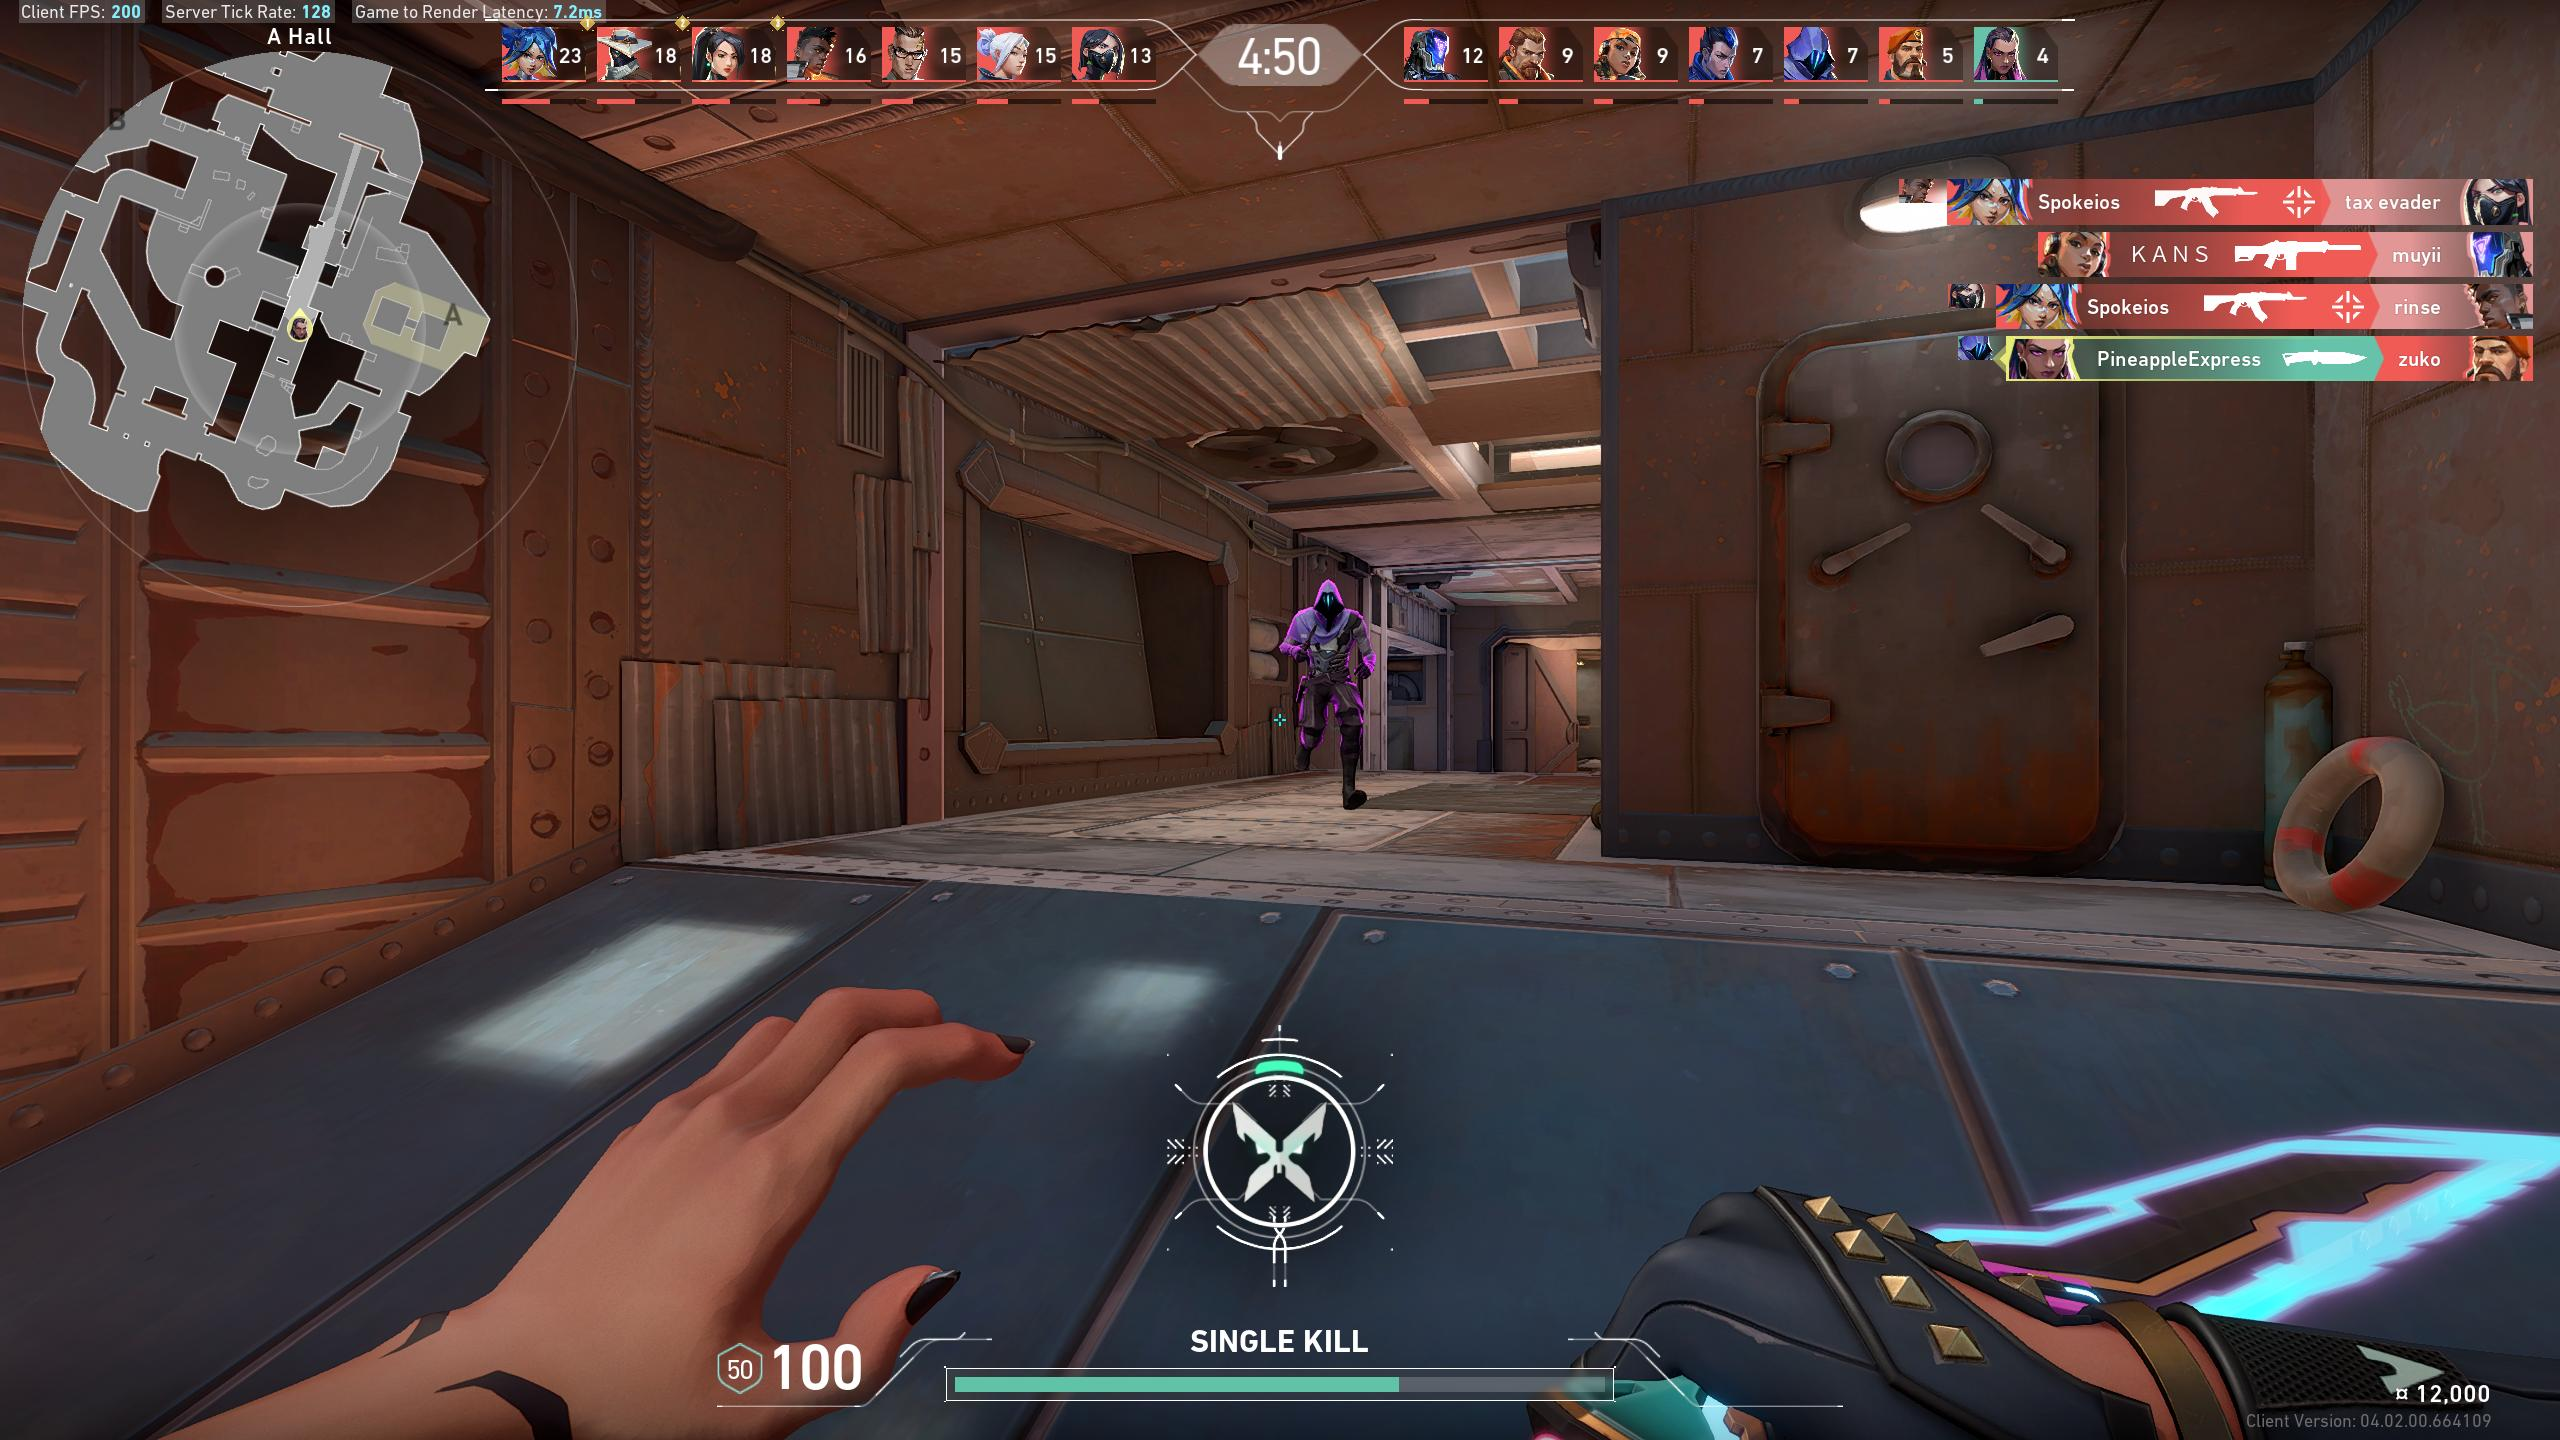enemyBody: (1308, 621, 1345, 675)
enemyHead: (1322, 591, 1338, 617)
